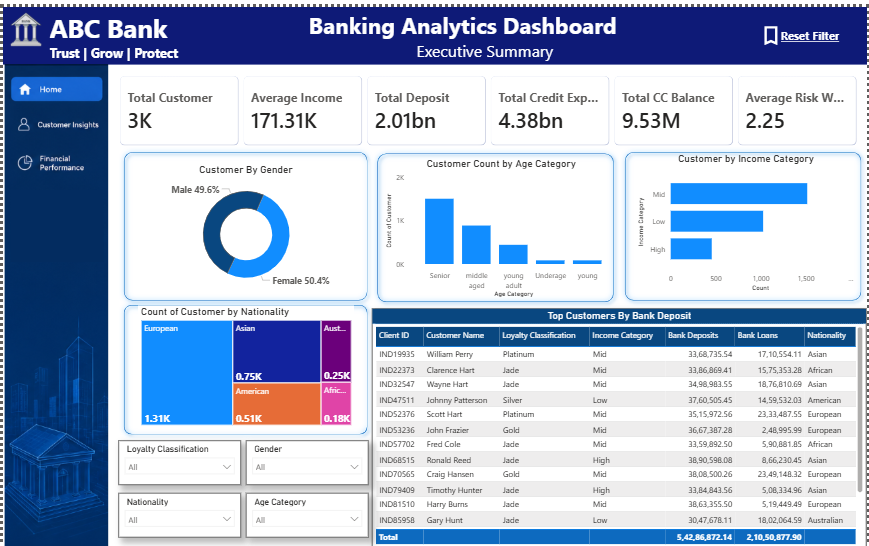

What the dashboard file says about the page in this screenshot:
{"tool":"powerbi","page":{"name":"Home","canvas":[1440,900],"ordinal":0},"visuals":[{"type":"shape","box":[192,488,424,234],"z":0},{"type":"shape","box":[0,0,1440,96],"z":1000},{"type":"image","box":[0,0,76.5,74.2],"z":2000},{"type":"textbox","box":[72.9,0,237.1,95.7],"z":3000},{"type":"textbox","box":[382,0,768,96],"z":4000},{"type":"cardVisual","fields":{"Data":["CountNonNull(Banking_Clean.Clinet ID)","Avg(Banking_Clean.Estimated Income)","Banking_Clean.Total Bank Deposit","Banking_Clean.Total Loan","Sum(Banking_Clean.Credit Card Balance)","Avg(Banking_Clean.Risk Weighting)"]},"box":[178,98,1262,150],"z":5000},{"type":"image","box":[0,96,178,804],"z":6000},{"type":"shape","box":[192,232,424,266],"z":7000},{"type":"donutChart","title":"Customer By Gender","fields":{"Category":["Banking_Clean.GenderId"],"Y":["CountNonNull(Banking_Clean.GenderId)"]},"box":[224,260,360,218],"z":8000},{"type":"shape","box":[616,236,412,266],"z":9000},{"type":"columnChart","title":"Customer  Count by Age Category","fields":{"Category":["Banking_Clean.Age Category"],"Y":["CountNonNull(Banking_Clean.Clinet ID)"]},"box":[632,250,396,238],"z":10000},{"type":"shape","box":[1028,232,412,266],"z":11000},{"type":"clusteredBarChart","title":"Customer by Income Category","fields":{"Category":["Banking_Clean.Income Category"],"Y":["CountNonNull(Banking_Clean.Estimated Income)"]},"box":[1052,242,372,236],"z":12000},{"type":"treemap","title":"Count of Customer by Nationality","fields":{"Group":["Banking_Clean.Nationality"],"Values":["CountNonNull(Banking_Clean.Clinet ID)"]},"box":[224,498,360,204],"z":13000},{"type":"tableEx","title":"Top Customers By Bank Deposit","fields":{"Values":["Banking_Clean.Clinet ID","Banking_Clean.Name","Banking_Clean.Loyalty Classification","Banking_Clean.Income Category","Sum(Banking_Clean.Bank Deposits)","Sum(Banking_Clean.Bank Loans)","Banking_Clean.Nationality"]},"box":[616,502,824,398],"z":14000},{"type":"slicer","fields":{"Values":["Banking_Clean.Loyalty Classification"]},"box":[192,722,204,74],"z":15000},{"type":"slicer","fields":{"Values":["Banking_Clean.GenderId"]},"box":[404,722,204,74],"z":16000},{"type":"slicer","fields":{"Values":["Banking_Clean.Nationality"]},"box":[192,810,204,74],"z":17000},{"type":"slicer","fields":{"Values":["Banking_Clean.Age Category"]},"box":[404,810,204,74],"z":18000},{"type":"actionButton","box":[1260,28,138,40],"z":19000},{"type":"shape","box":[11.7,305,155,120],"z":19001}]}

Visuals, with their boxes in screenshot pixels (x1, y1, x2, y2), scaled from the page's 1440x900 canvas onto the 869x546 screenshot:
shape: [x1=116, y1=296, x2=372, y2=438]
shape: [x1=0, y1=0, x2=868, y2=58]
image: [x1=0, y1=0, x2=46, y2=45]
textbox: [x1=44, y1=0, x2=187, y2=58]
textbox: [x1=231, y1=0, x2=694, y2=58]
cardVisual - CountNonNull(Banking_Clean.Clinet ID) x Avg(Banking_Clean.Estimated Income): [x1=107, y1=59, x2=868, y2=150]
image: [x1=0, y1=58, x2=107, y2=545]
shape: [x1=116, y1=141, x2=372, y2=302]
"Customer By Gender" donutChart: [x1=135, y1=158, x2=352, y2=290]
shape: [x1=372, y1=143, x2=620, y2=305]
"Customer  Count by Age Category" columnChart: [x1=381, y1=152, x2=620, y2=296]
shape: [x1=620, y1=141, x2=868, y2=302]
"Customer by Income Category" clusteredBarChart: [x1=635, y1=147, x2=859, y2=290]
"Count of Customer by Nationality" treemap: [x1=135, y1=302, x2=352, y2=426]
"Top Customers By Bank Deposit" tableEx: [x1=372, y1=305, x2=868, y2=545]
slicer - Banking_Clean.Loyalty Classification: [x1=116, y1=438, x2=239, y2=483]
slicer - Banking_Clean.GenderId: [x1=244, y1=438, x2=367, y2=483]
slicer - Banking_Clean.Nationality: [x1=116, y1=491, x2=239, y2=536]
slicer - Banking_Clean.Age Category: [x1=244, y1=491, x2=367, y2=536]
actionButton: [x1=760, y1=17, x2=844, y2=41]
shape: [x1=7, y1=185, x2=101, y2=258]
